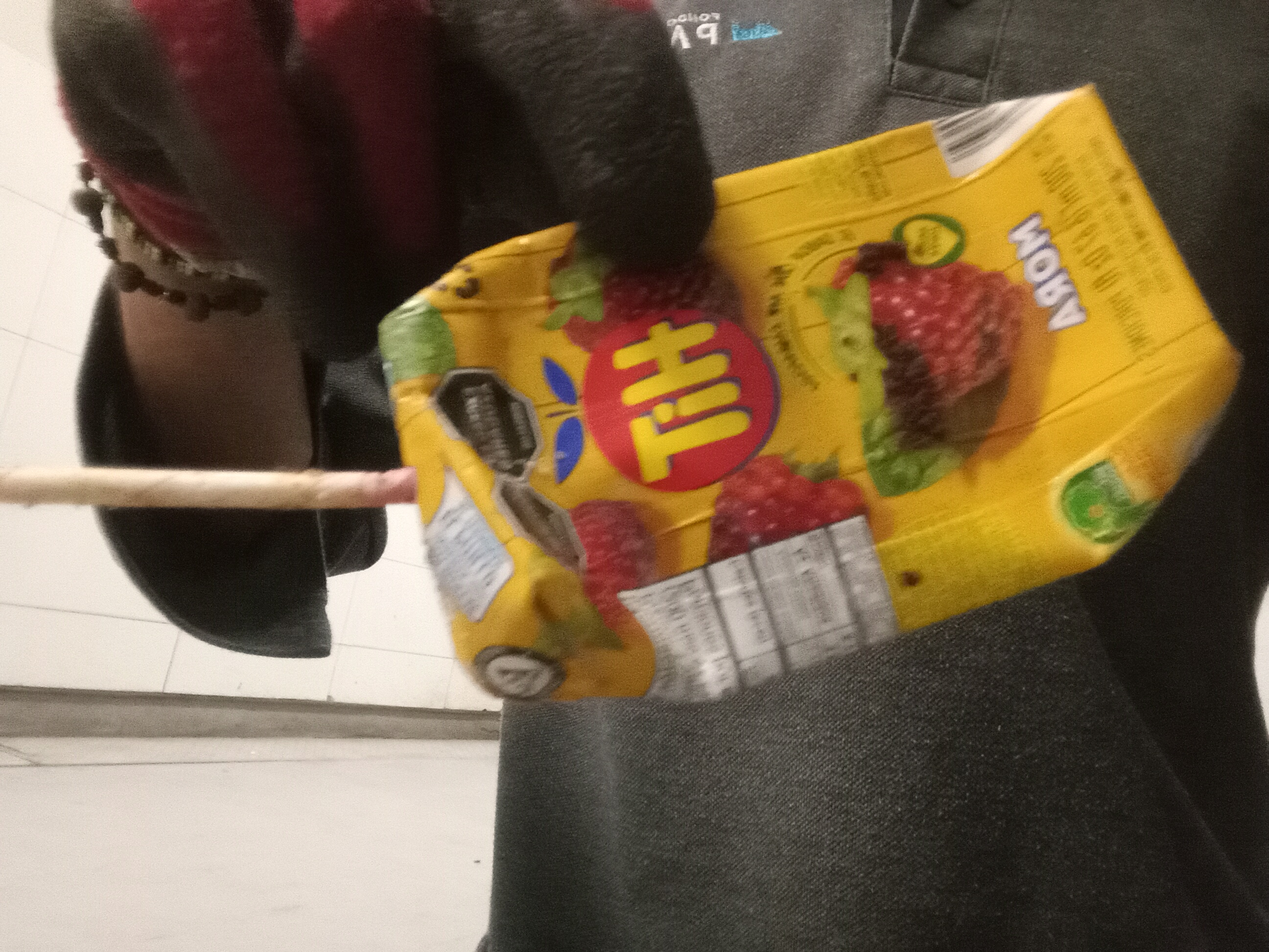Carton: (377, 81, 1241, 708)
